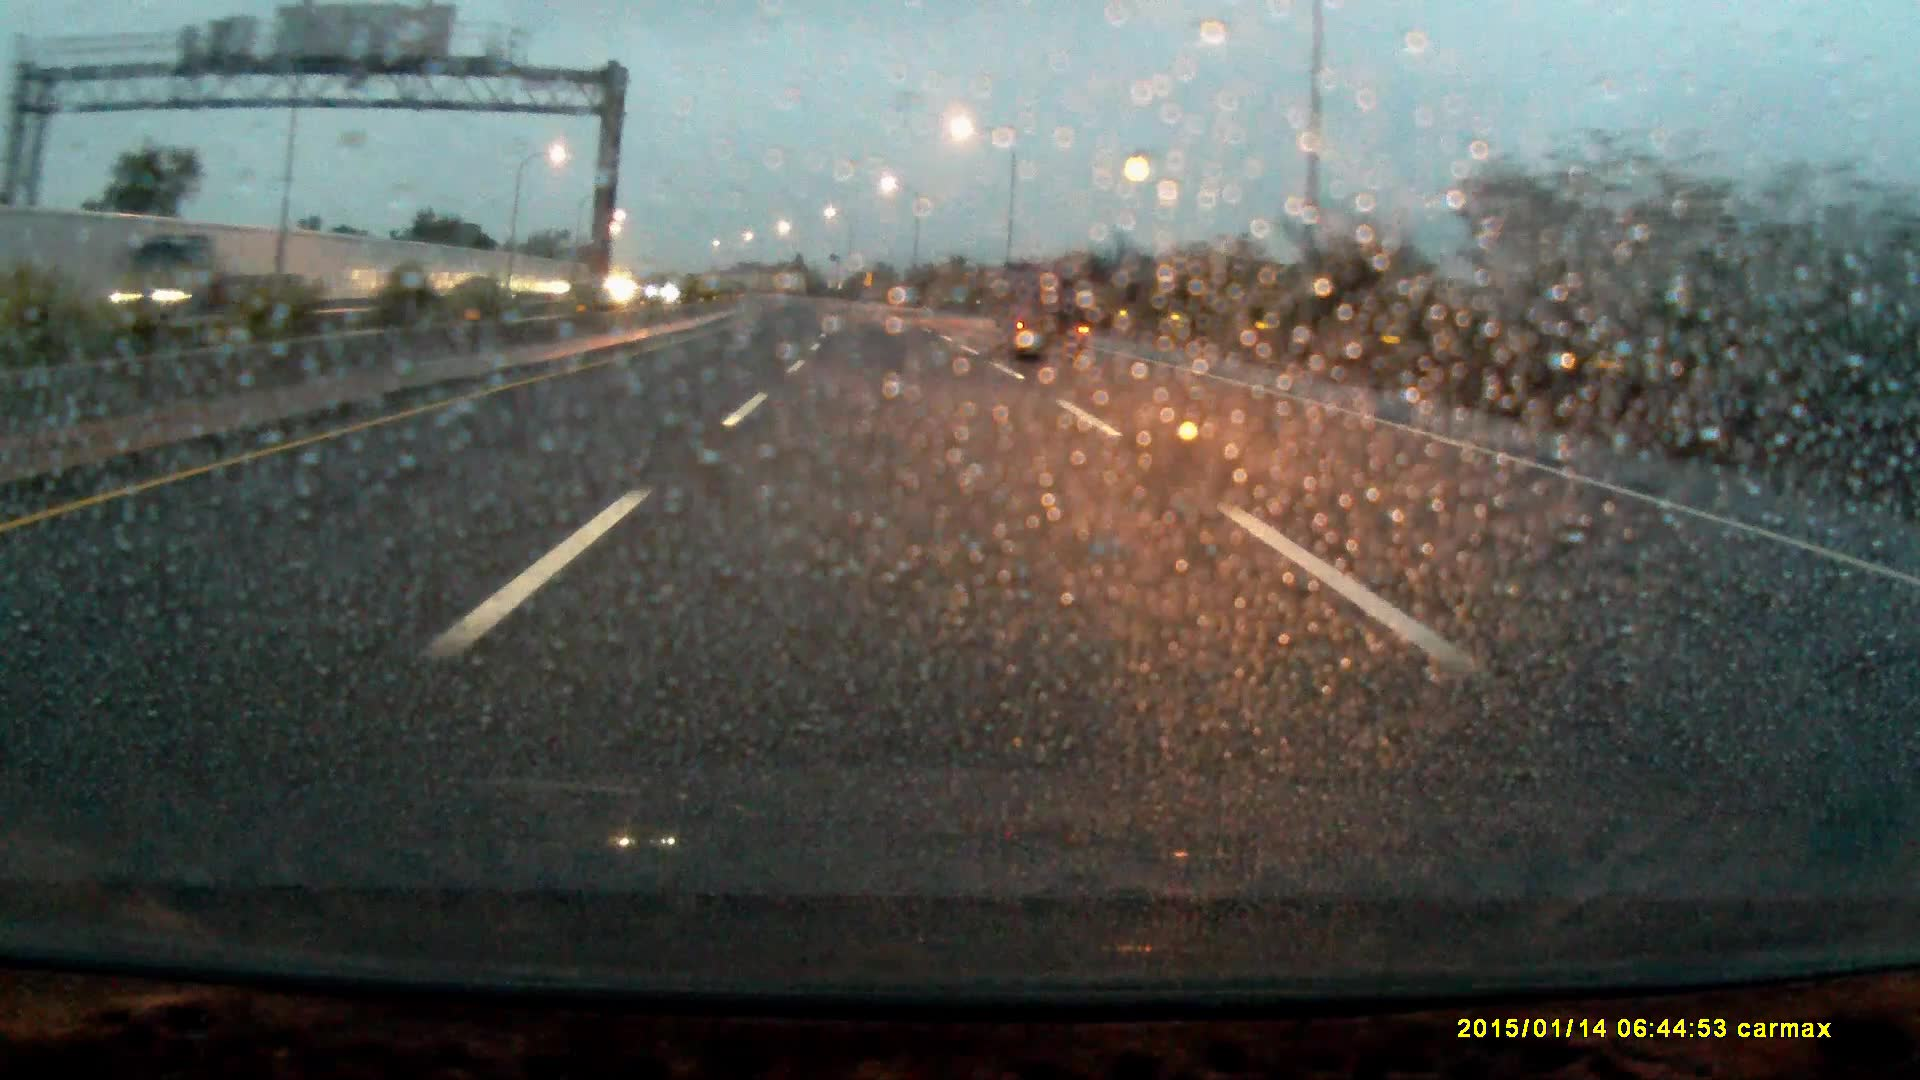vehicle: (96, 233, 287, 324), (1004, 276, 1091, 368)
